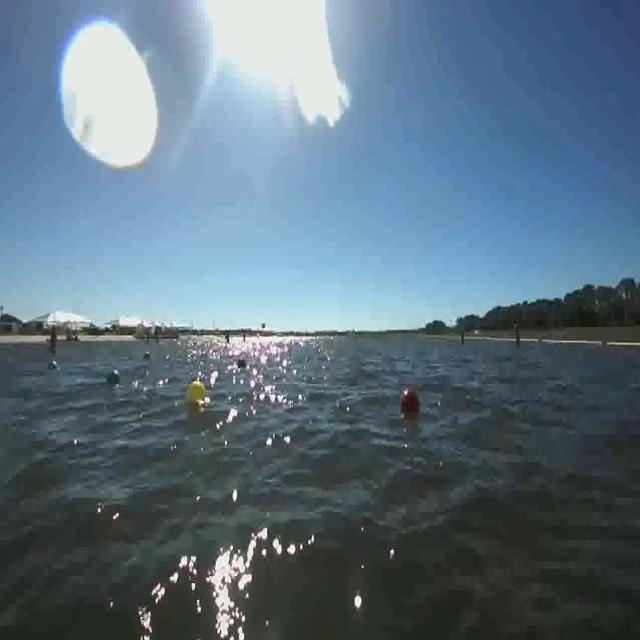red-buoy: (403, 388, 420, 413)
yellow-buoy: (187, 376, 208, 404)
